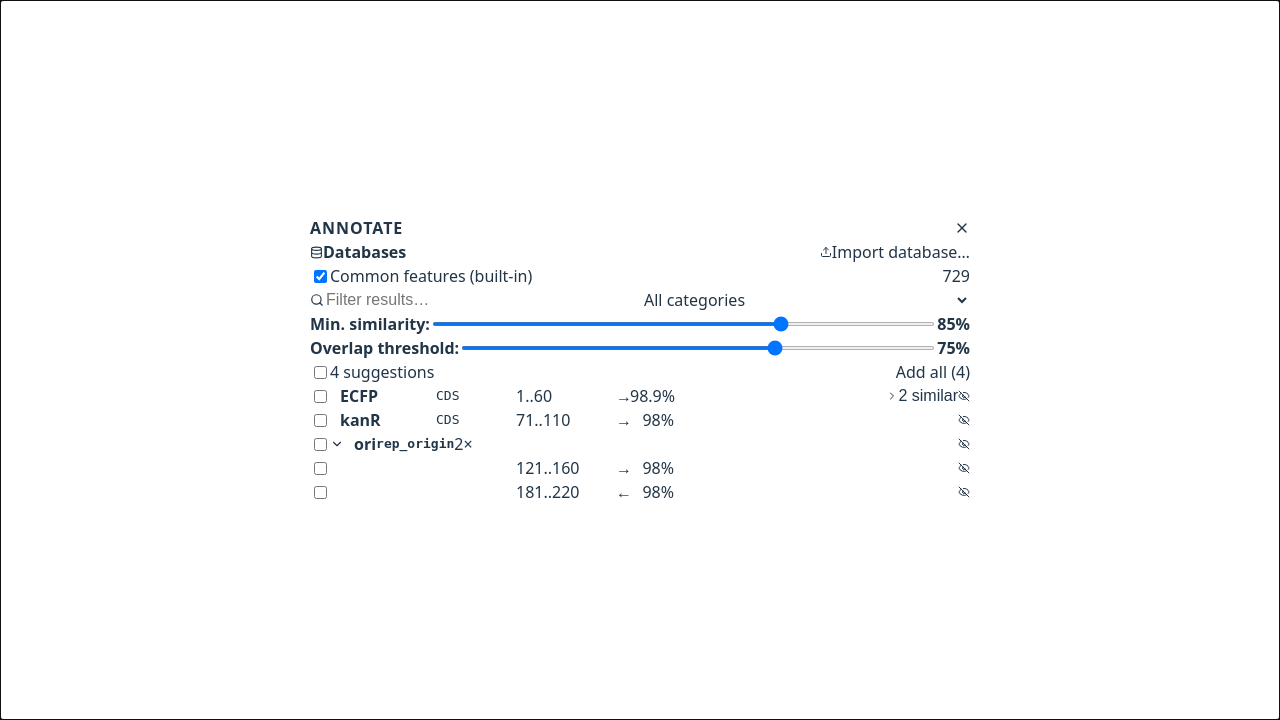
Test: AnnotateDialog suggestions › rejects an element, offers the next relative, and keeps the rejection with the document
Click the button named "Don't suggest ECFP in this document" at (964, 396), box [958, 390, 970, 402]
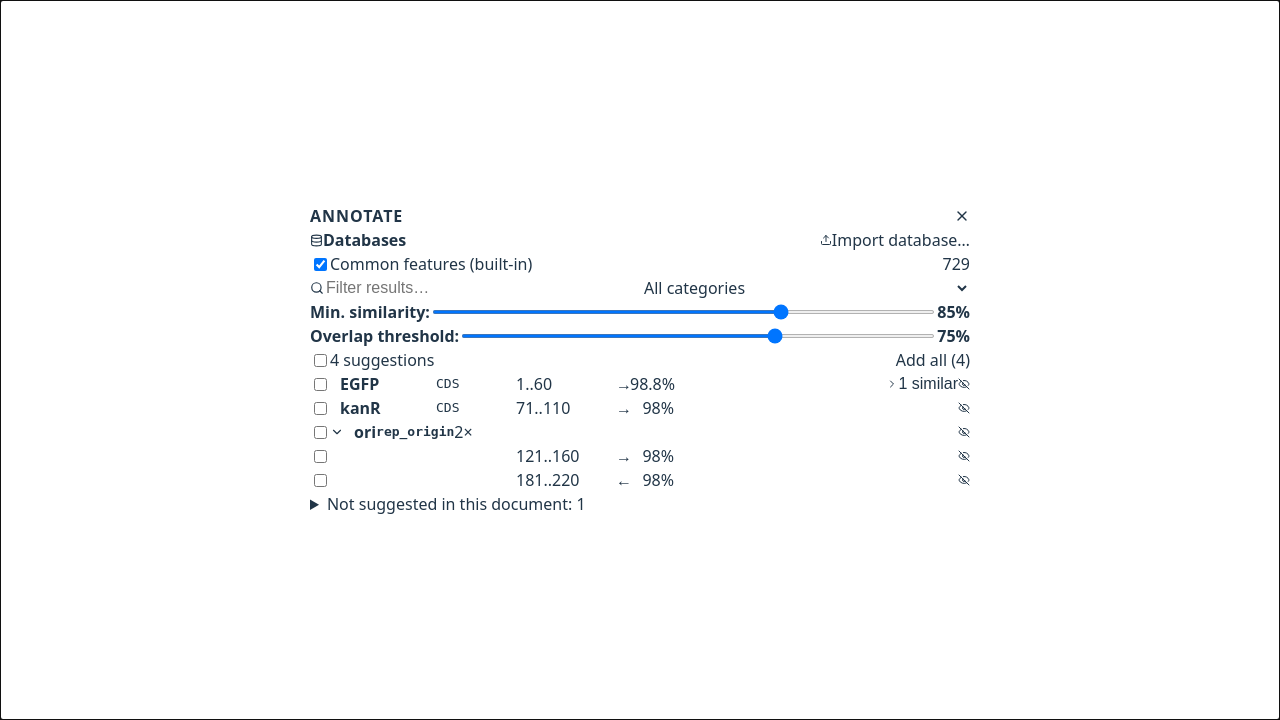
Check: the text "EGFP" is shown, box [340, 373, 379, 395]
Check: the heading "Not suggested in this document: 1" is shown, box [327, 493, 586, 515]
